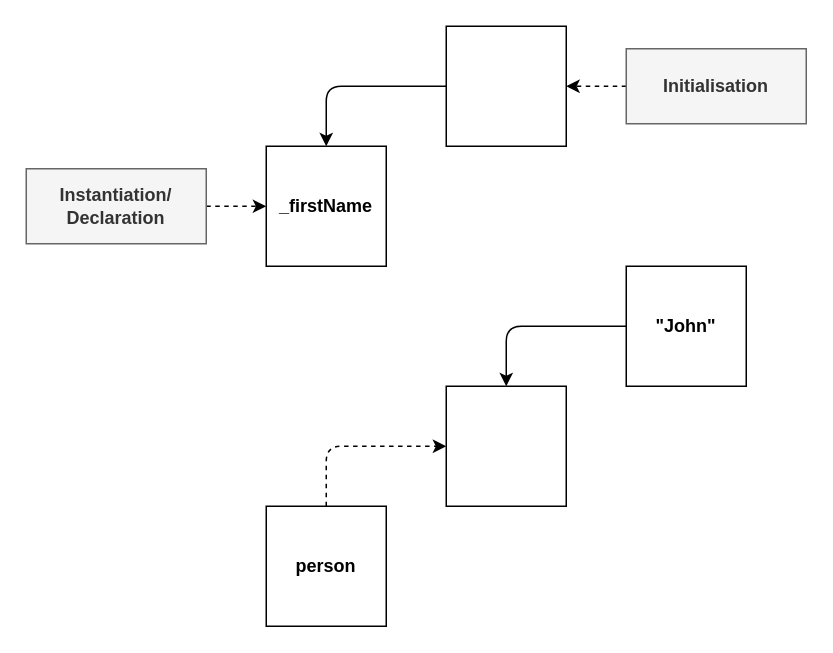
The diagram is 833 pixels wide and 653 high, and some of its shapes have lost their labels. Here are the shapes that lost their labels. From the top down, the box of each, then its label:
(445, 25, 566, 146): "Jane"
(445, 385, 566, 506): firstName (bedroom)
